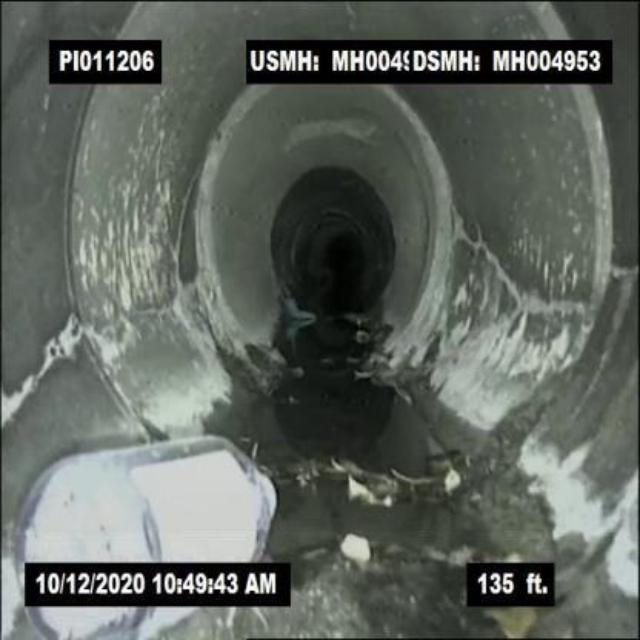Crack: (463, 232, 566, 317), (6, 320, 75, 422), (89, 298, 172, 345)
